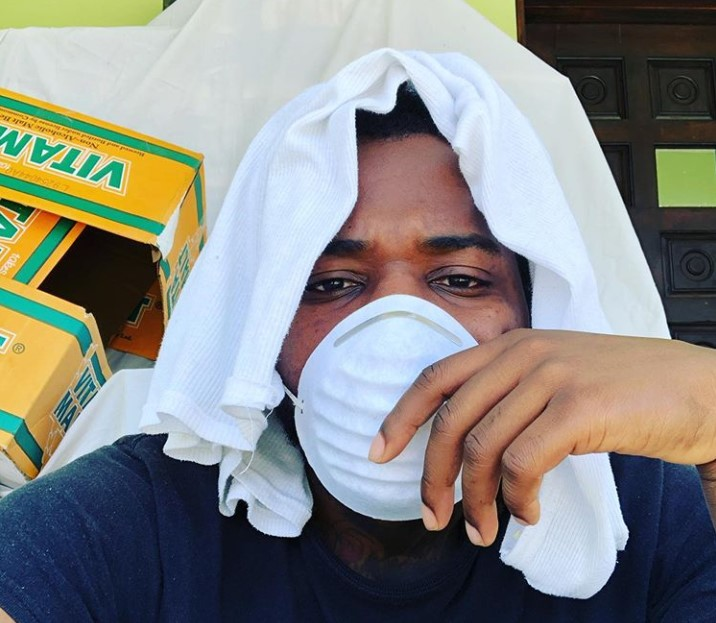face_with_mask: (260, 81, 547, 482)
